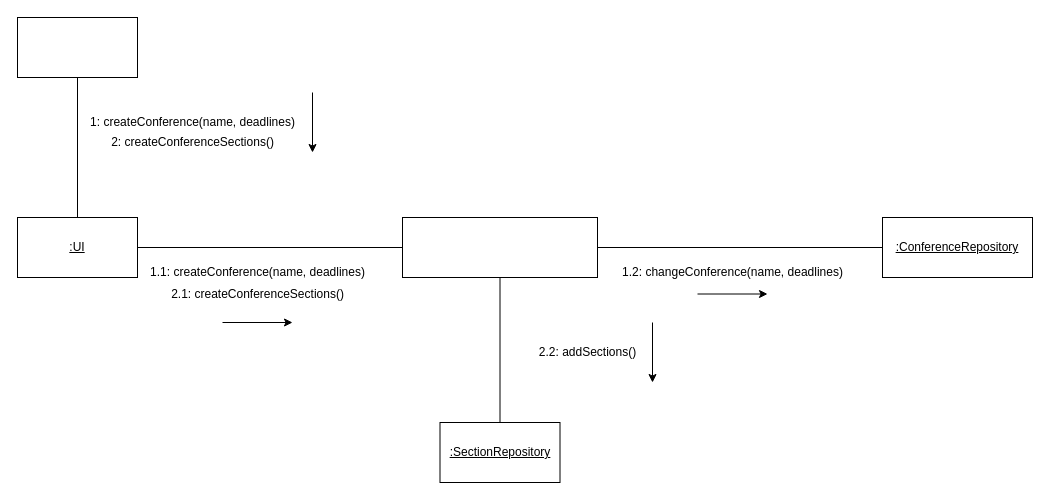
Some shapes in this 1050 by 500 pixel diagram are drawn without their labels. Each missing label, with the centre of its shape:
:SteeringCommitte: [77,47]
:SteeringCommitteController: [500,247]
